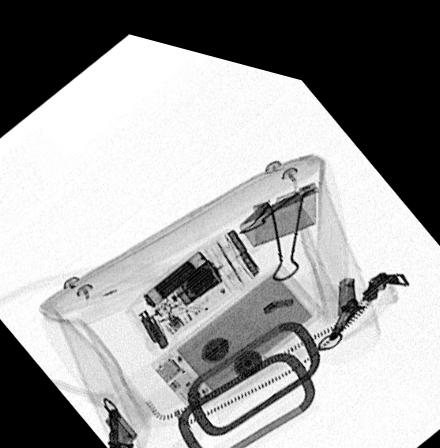Powerbank: (149, 247, 324, 407)
